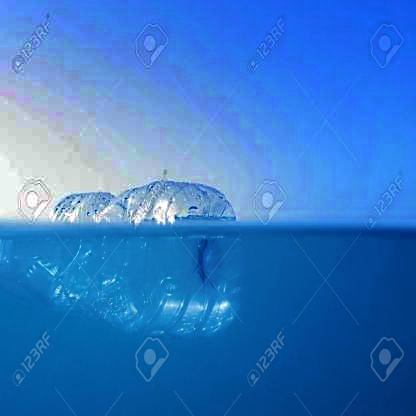pbottle: (0, 179, 250, 342)
